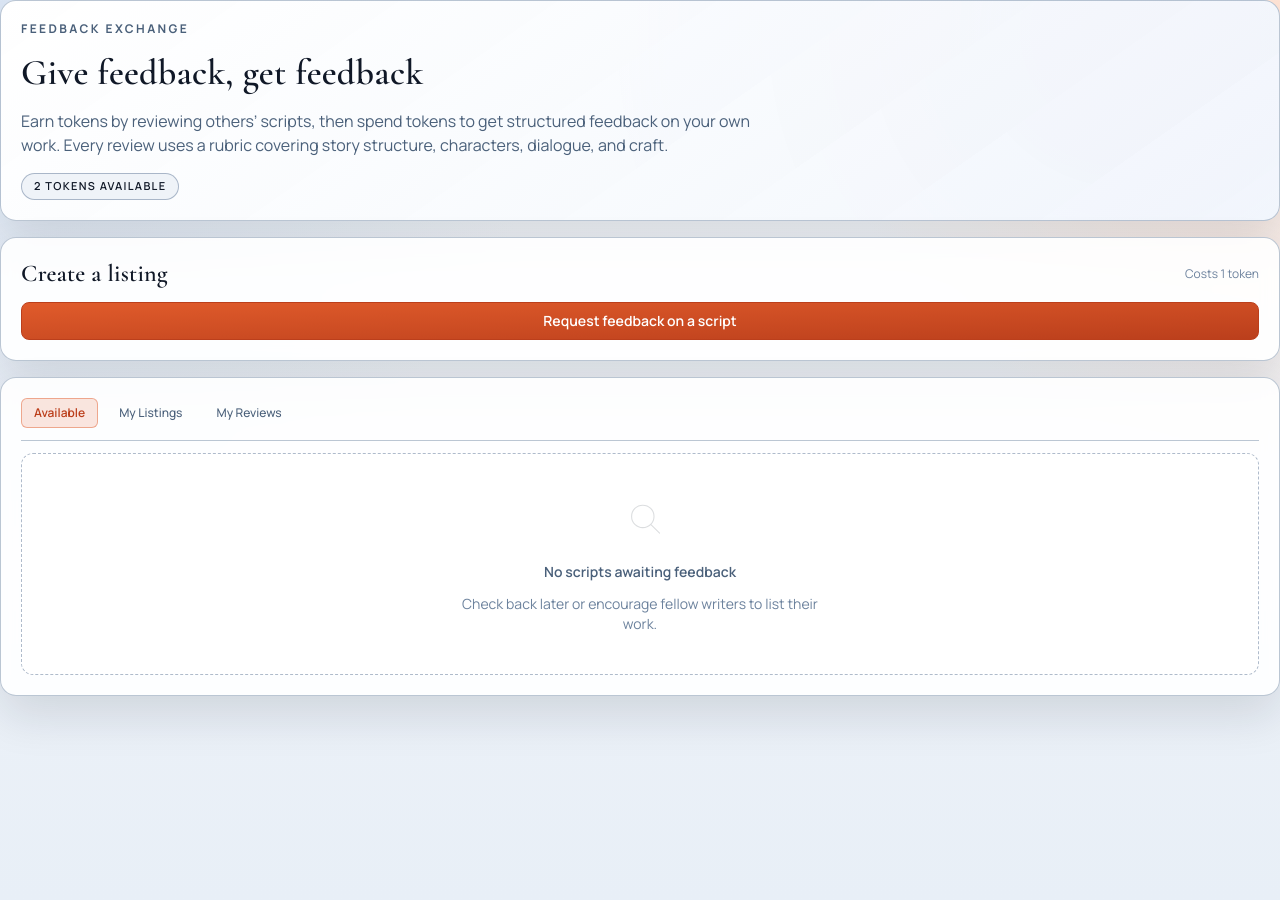
Test: FeedbackPage additional coverage › rates a completed listing when the matching review is present
The image size is (1280, 900).
Click the button "My Listings" at {"x": 151, "y": 412}, box [106,398,196,428]
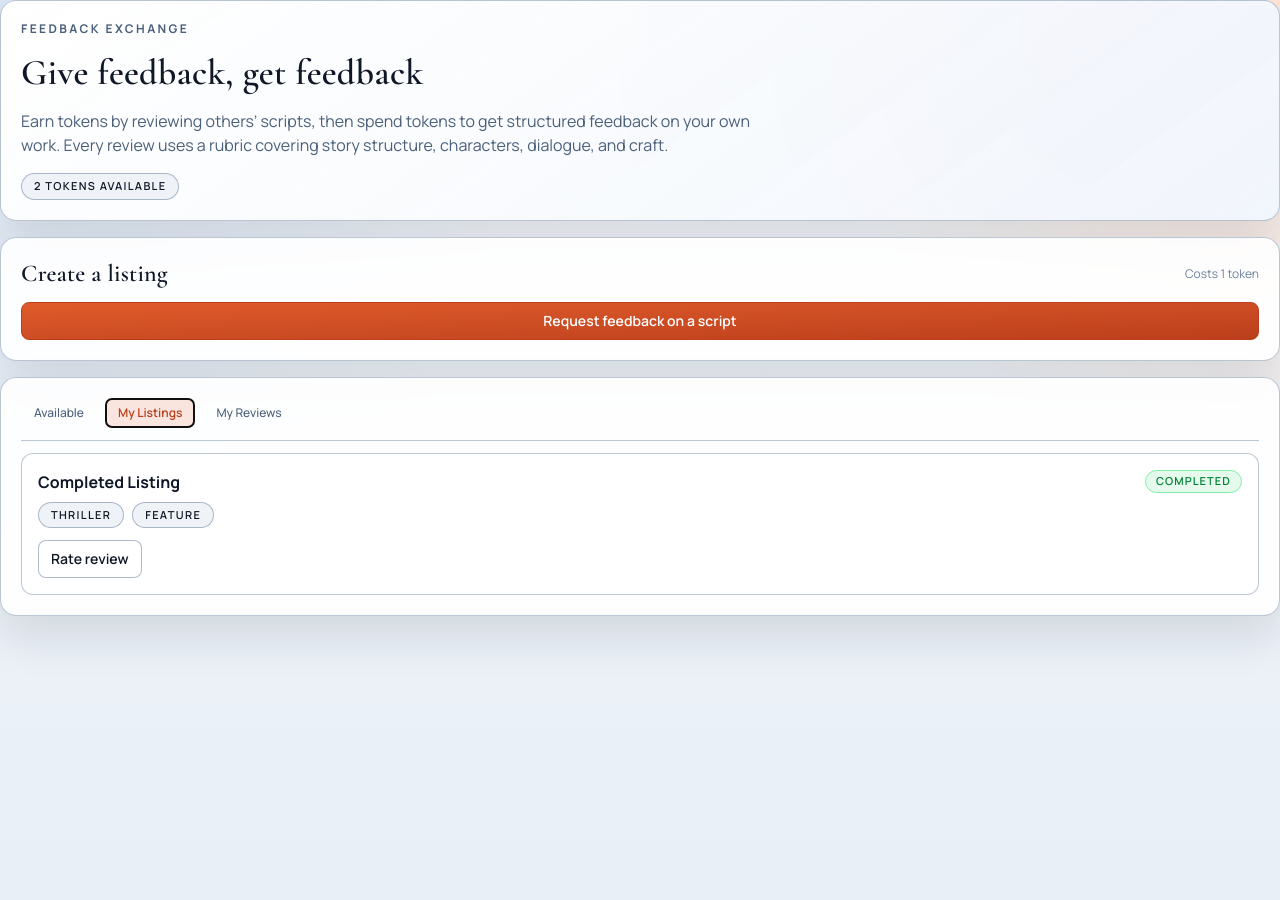
Click the button "Rate review" at {"x": 90, "y": 559}, box [38,540,142,578]
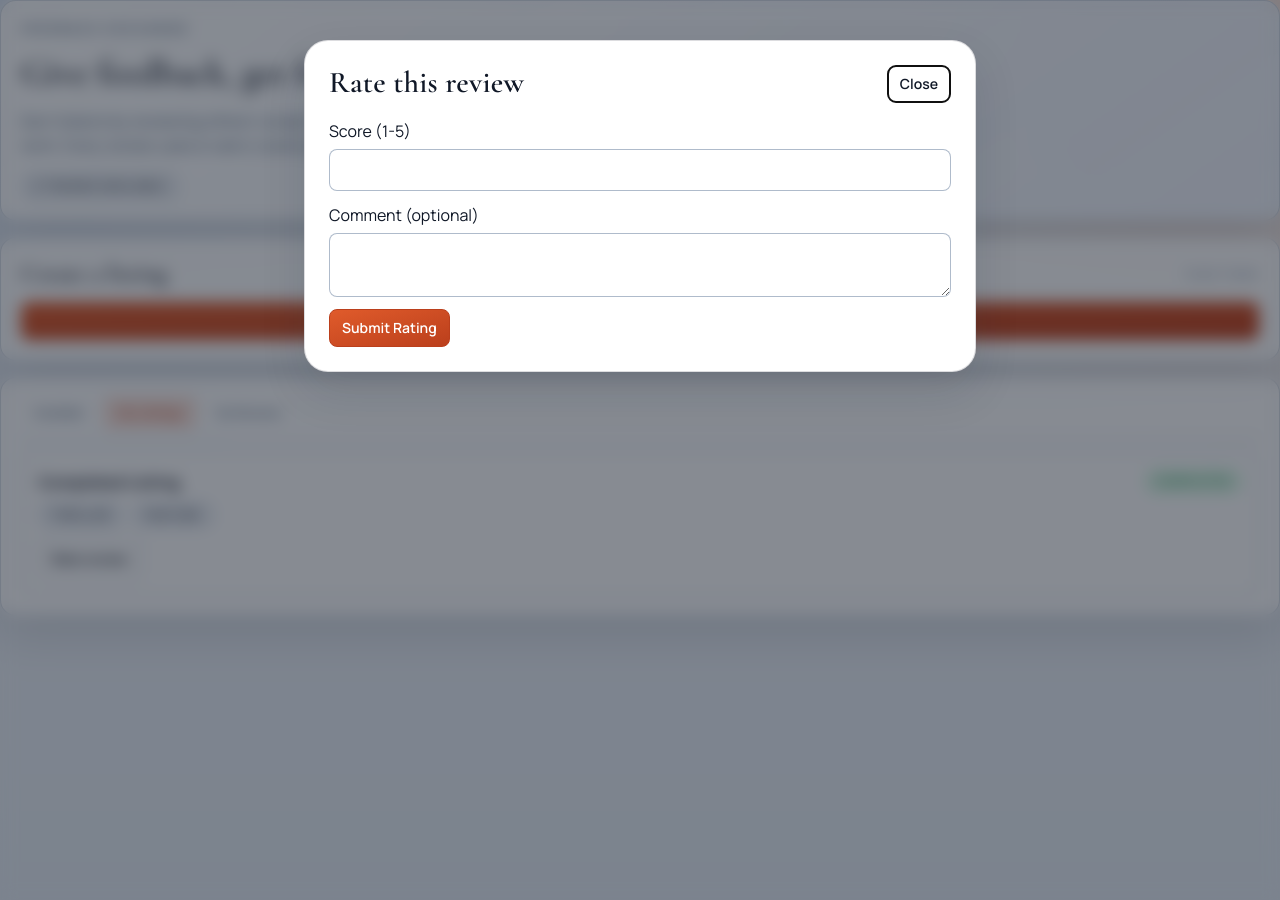
Check: the dialog "Rate this review" is shown, box [304,40,976,372]
Type "5" into the number field labelled "Score (1-5)" at {"x": 640, "y": 170}, box [329,149,951,191]
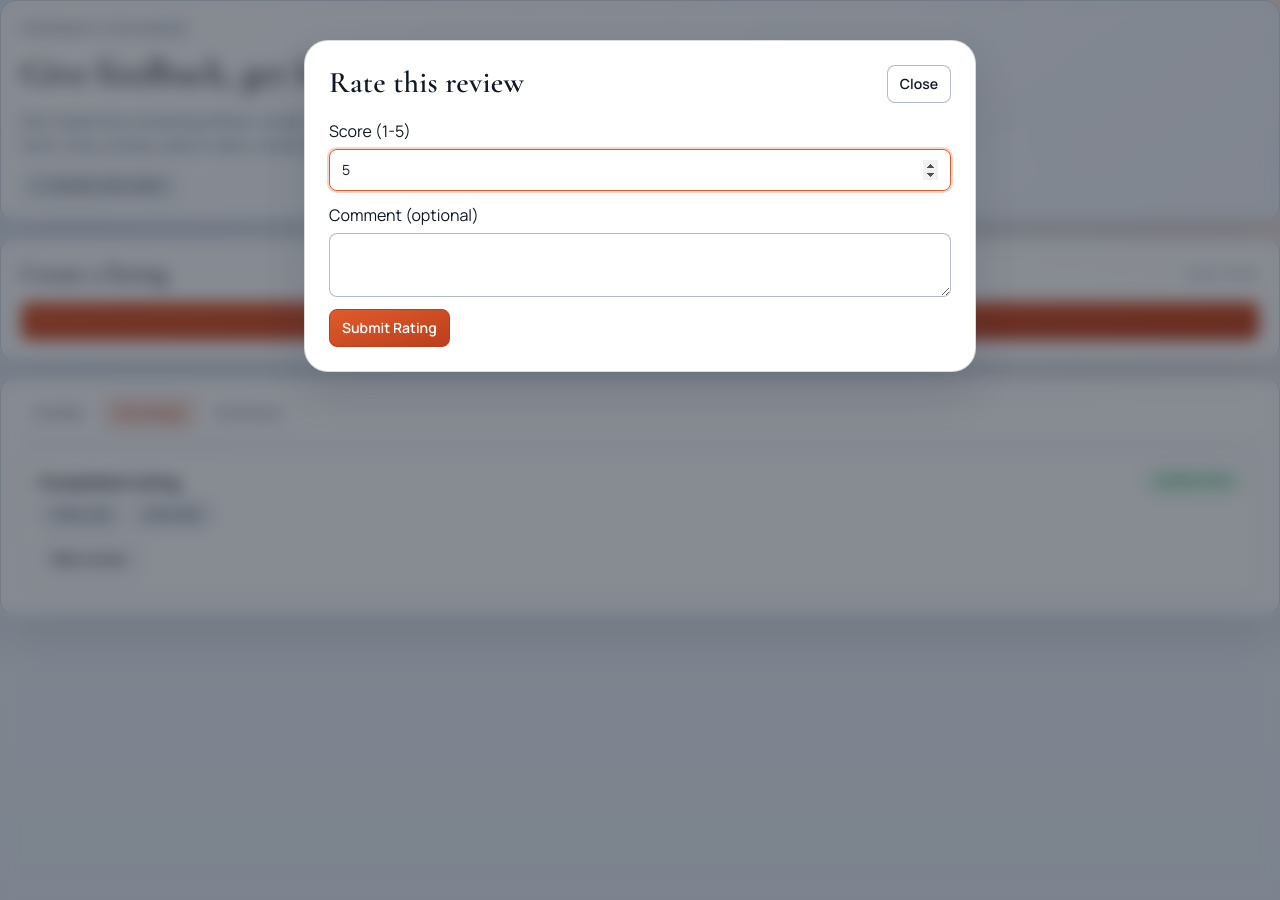
Type "Thoughtful feedback." into the text box labelled "Comment (optional)" at {"x": 640, "y": 265}, box [329,233,951,297]
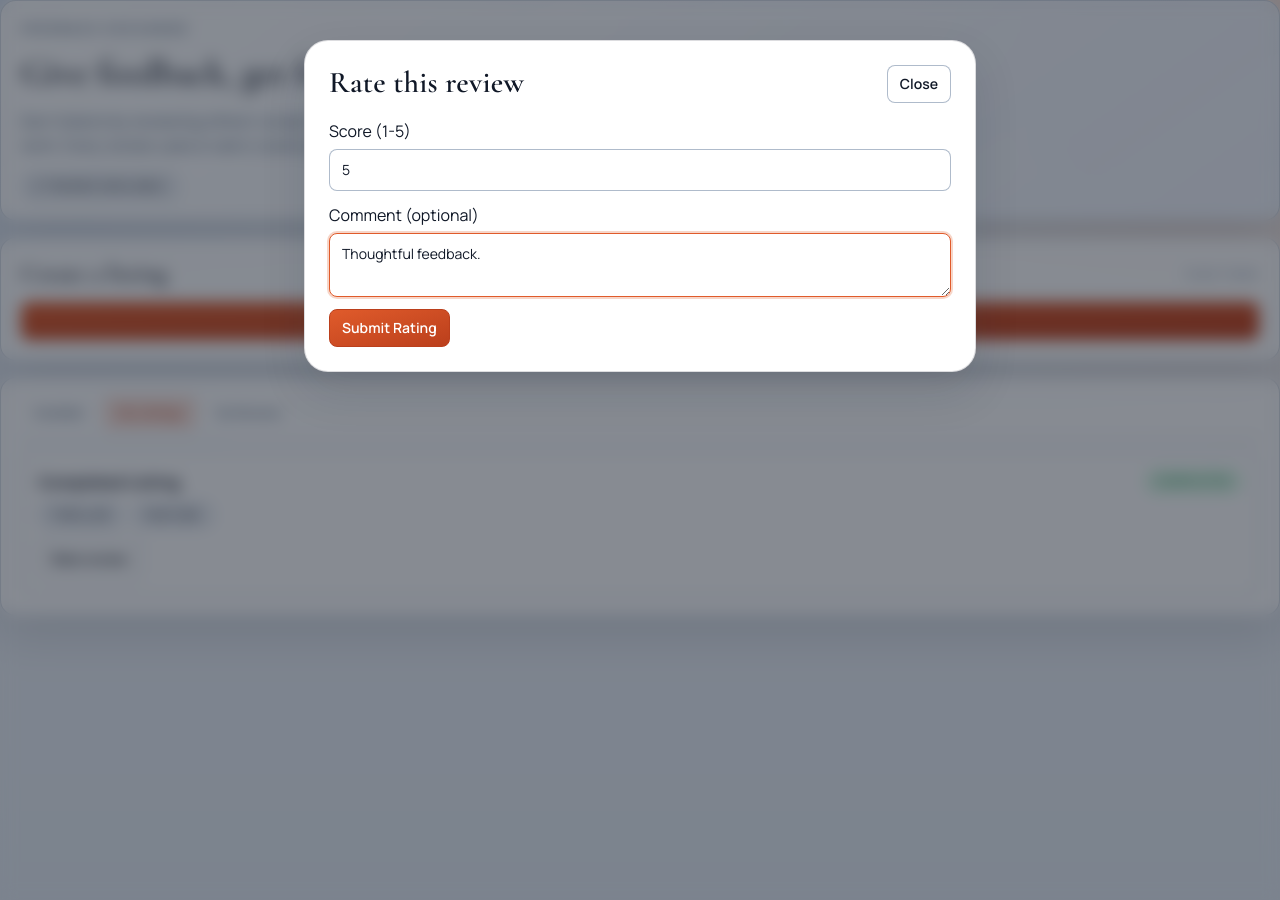
Click the button "Submit Rating" at {"x": 389, "y": 328}, box [329,309,450,347]
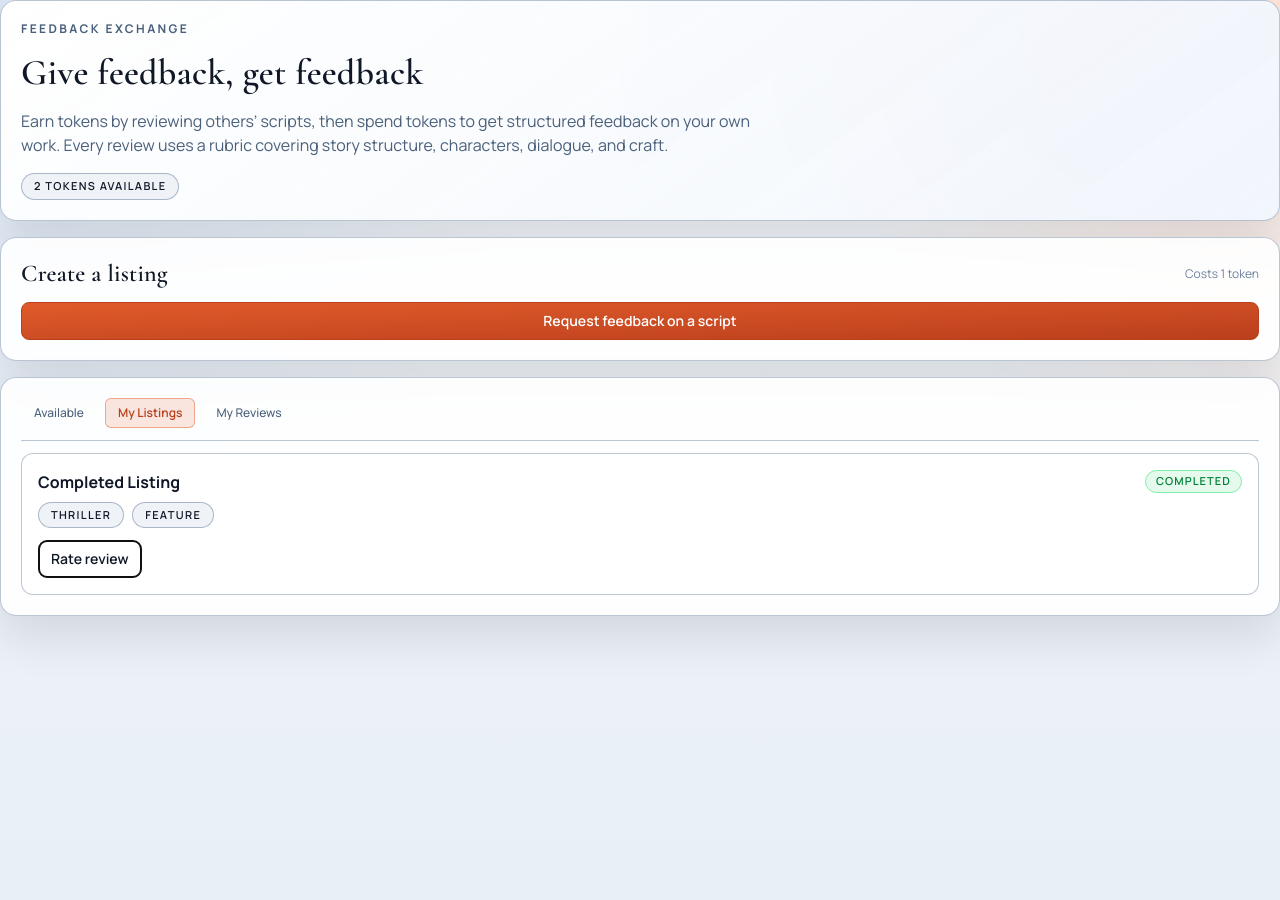
Check: the heading "Rate this review" is gone
